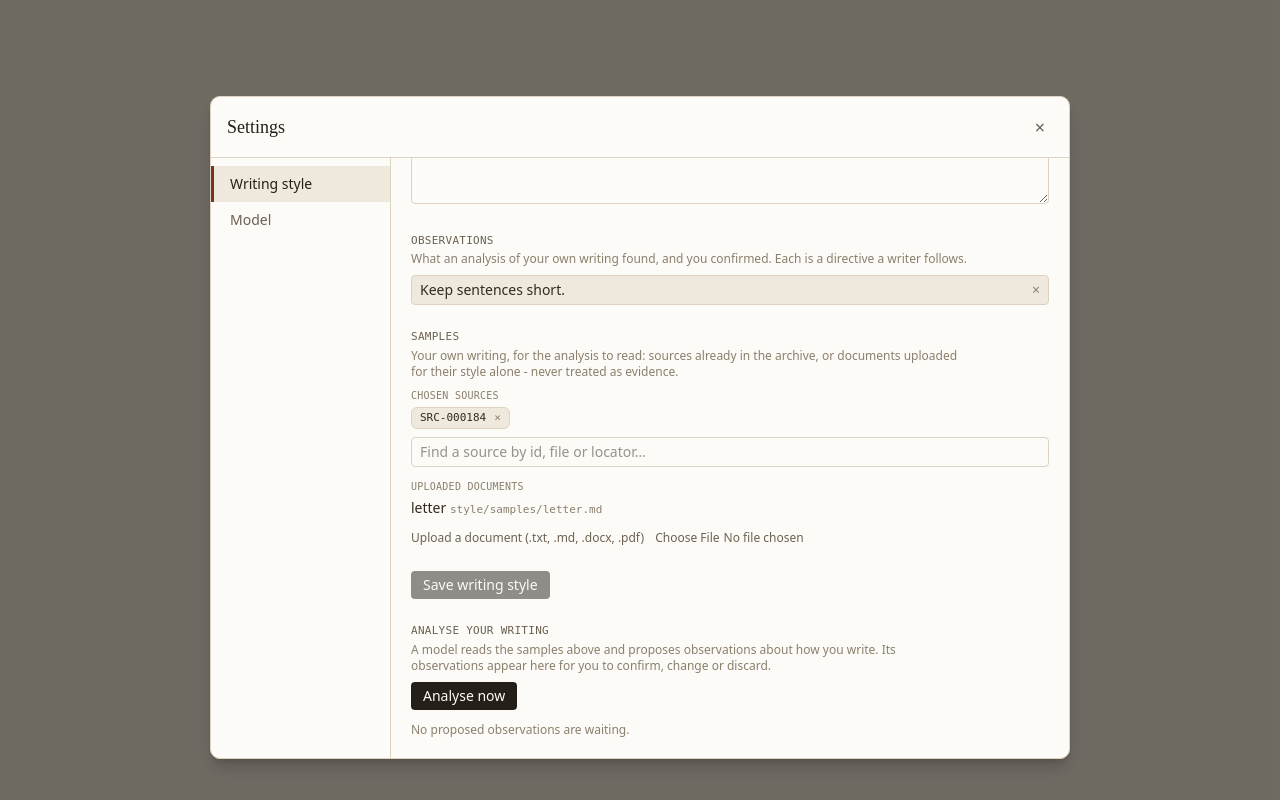
Test: the settings dialog › offers Analyse now only when a direct run is ready, and shows what it proposed
This screenshot has width=1280, height=800.
(page scrolled)
Expected: the text box named "Direction" is shown, [411,304,1049,418]
Click the button "Analyse now" at [464, 696], box [411,682,517,710]
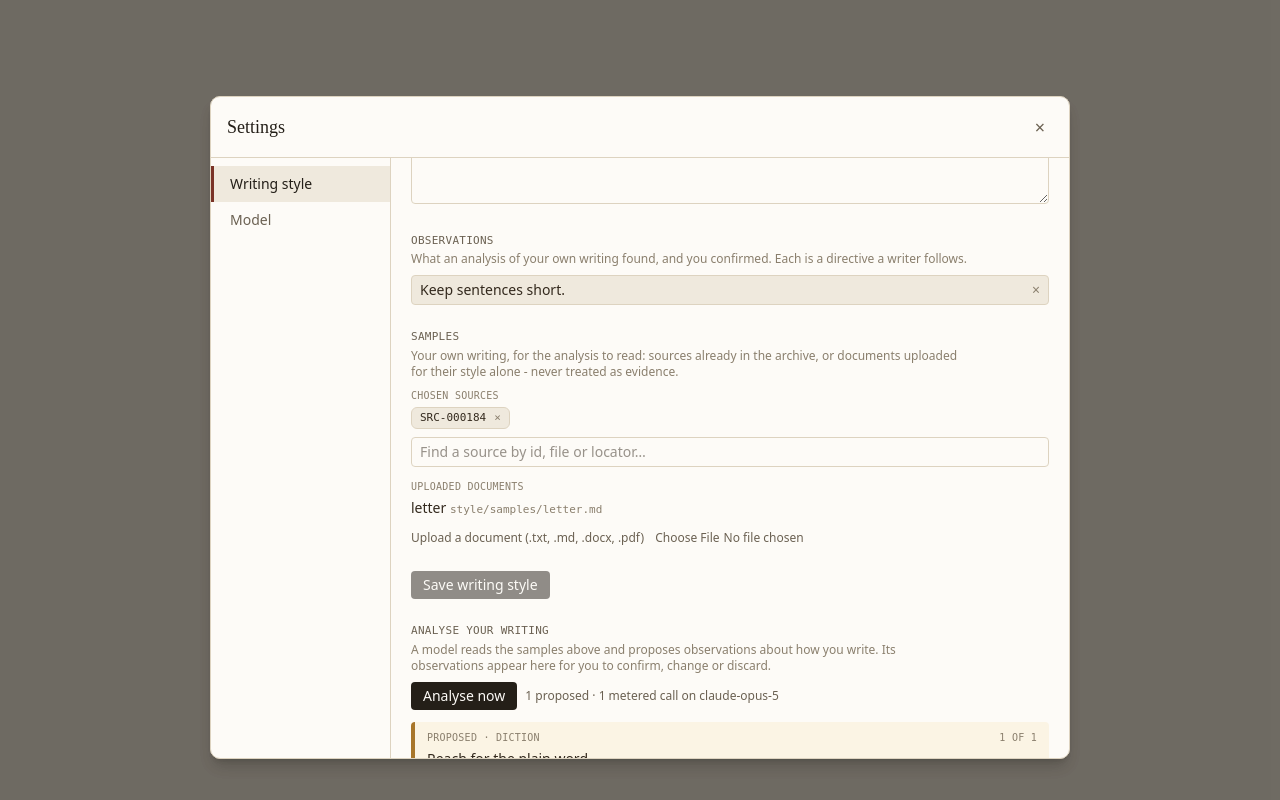
Result: the text "1 proposed · 1 metered call on claude-opus-5" is shown at [525,688,779,704]
